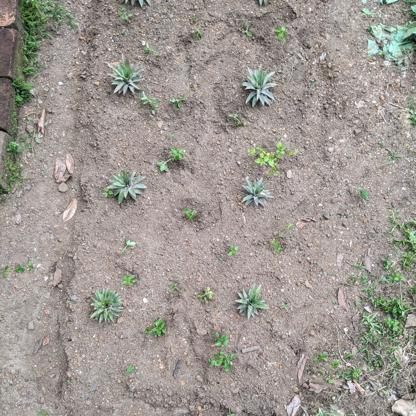pineapple: (238, 63, 280, 111), (104, 167, 150, 206), (106, 52, 144, 99), (87, 286, 124, 325), (236, 169, 271, 208), (234, 284, 269, 321)
weed: (246, 139, 300, 171), (210, 328, 233, 374), (146, 316, 172, 343), (195, 285, 219, 310), (166, 145, 191, 164), (181, 205, 202, 227)
